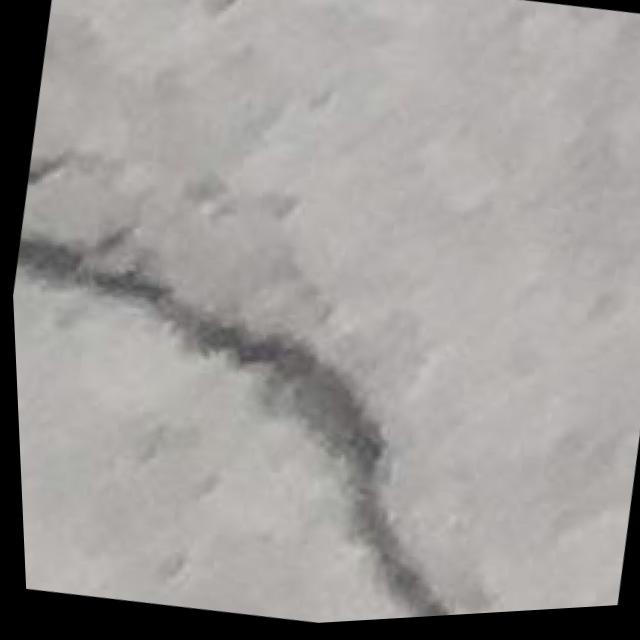Crack: (7, 167, 523, 640)
